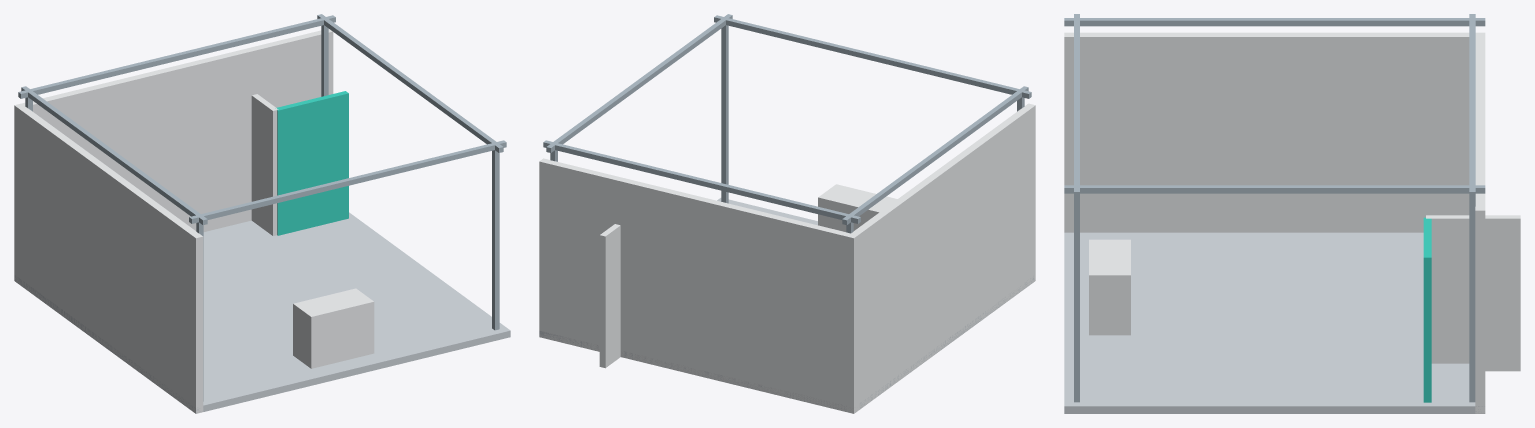
3 views of the same model, side by side, from view 1: azimuth 30°, elevation 25°; view 2: azimuth 150°, elevation 25°; view 3: azimuth 270°, elevation 25° (orthographic). The views are drawn at different scales.
Visible parts, largest first — view 1: Exhibition Booth Concept; view 2: Exhibition Booth Concept; view 3: Exhibition Booth Concept.
Part boxes in pixels (x1=…): Exhibition Booth Concept: x1=14, y1=14, x2=510, y2=413; Exhibition Booth Concept: x1=539, y1=14, x2=1035, y2=413; Exhibition Booth Concept: x1=1064, y1=14, x2=1520, y2=413.
Size of the model in its own units: 6 by 3.49 by 6.51.
